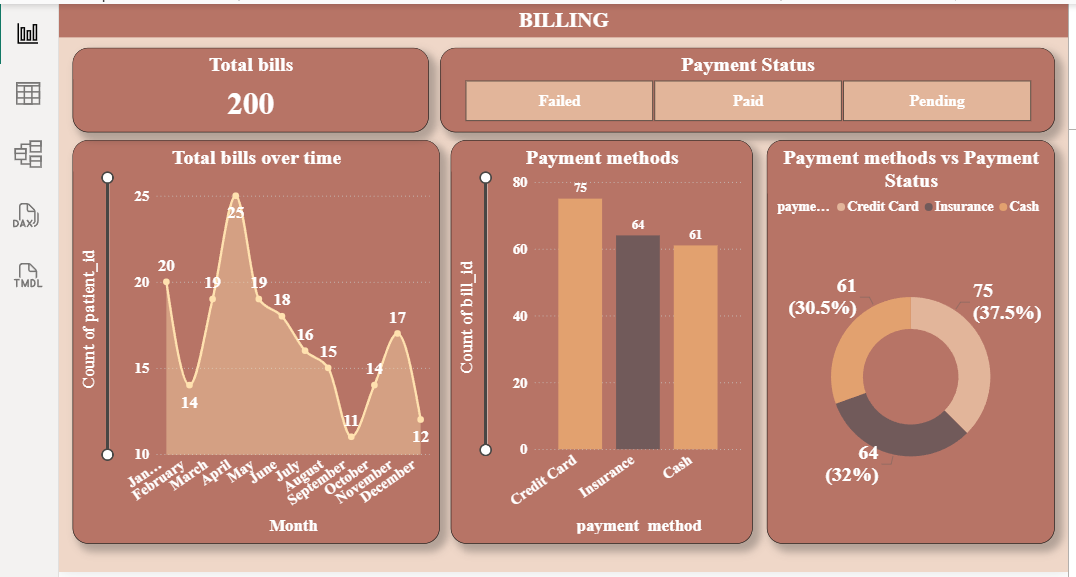

This screenshot's page, from the dashboard's own definition file:
{"tool":"powerbi","page":{"name":" Page 2","canvas":[1280,720],"ordinal":1},"visuals":[{"type":"textbox","box":[0,0,1280.3,42.5],"z":0},{"type":"slicer","title":"Payment Status","fields":{"Values":["Billing.payment_status"]},"box":[483,56.3,779.4,107],"z":1000},{"type":"lineChart","title":"Total bills over time","fields":{"Category":["Billing.bill_date.Variation.Date Hierarchy.Month"],"Y":["CountNonNull(Billing.patient_id)"]},"box":[17.8,172.9,465.2,511.8],"z":2000},{"type":"columnChart","title":"Payment methods","fields":{"Category":["Billing.payment_method"],"Y":["CountNonNull(Billing.bill_id)"]},"box":[496.7,172.9,382.8,511.8],"z":3000},{"type":"card","title":"Total bills","fields":{"Values":["CountNonNull(Billing.bill_id)"]},"box":[17.8,56.3,451.5,107],"z":4000},{"type":"donutChart","title":"Payment methods vs Payment Status","fields":{"Category":["Billing.payment_method"],"Y":["CountNonNull(Billing.payment_status)"]},"box":[897.4,172.9,365,511.8],"z":5000}]}

Visuals, with their boxes in screenshot pixels (x1, y1, x2, y2):
textbox: 56, 0, 1068, 34
"Payment Status" slicer: 438, 45, 1054, 129
"Total bills over time" lineChart: 70, 137, 438, 541
"Payment methods" columnChart: 449, 137, 751, 541
"Total bills" card: 70, 45, 427, 129
"Payment methods vs Payment Status" donutChart: 766, 137, 1054, 541
